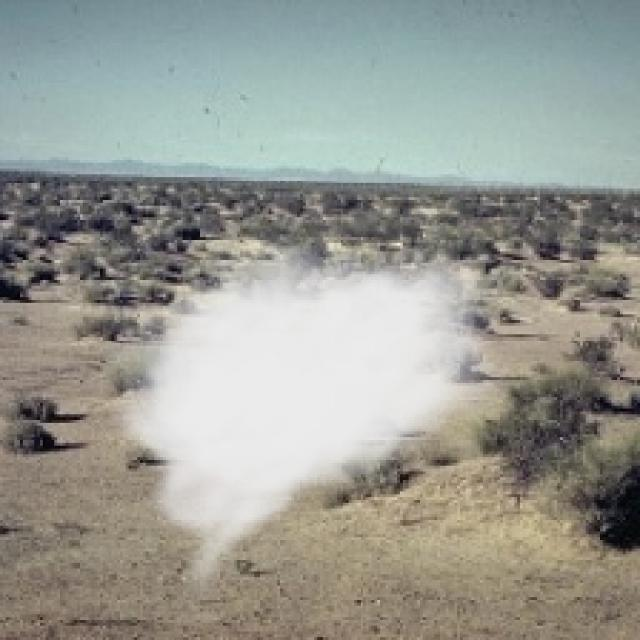smoke: (100, 231, 520, 606)
